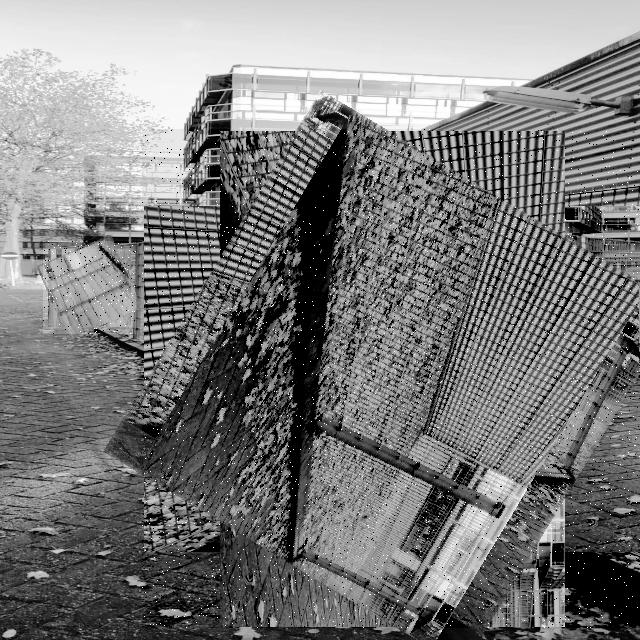fences: (142, 129, 640, 628), (43, 241, 136, 334)
